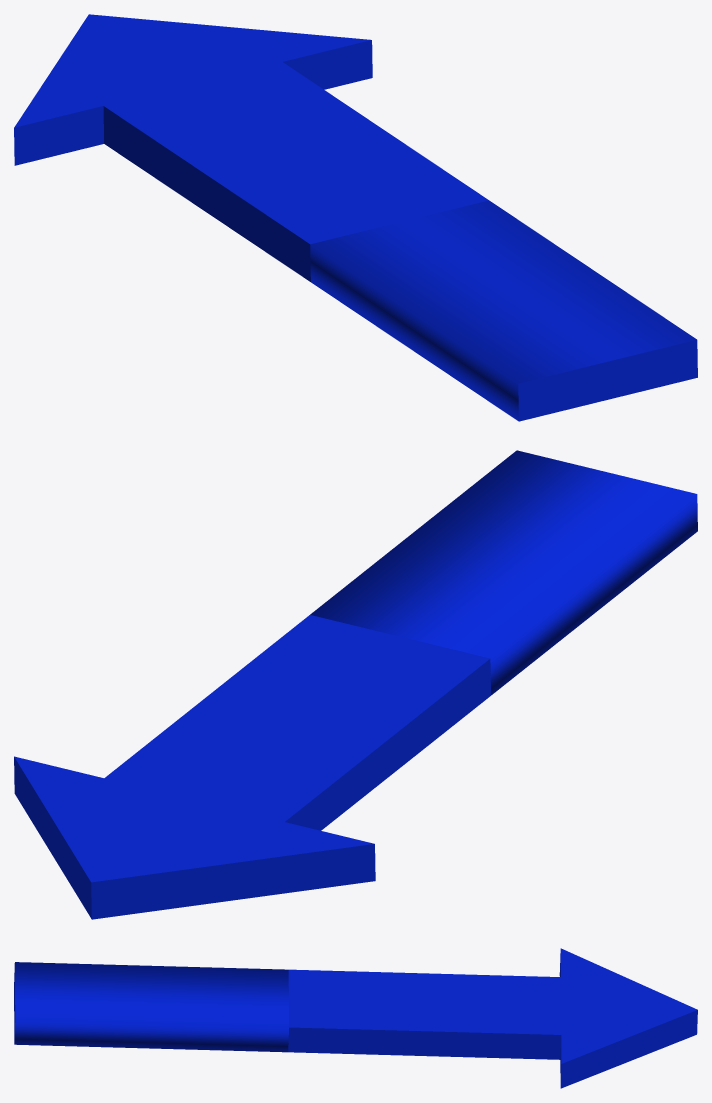
Rendered from arrow.gltf.
3 views of the same model, one above another, from view 1: azimuth 30°, elevation 25°; view 2: azimuth 150°, elevation 25°; view 3: azimuth 270°, elevation 25° (orthographic). The views are drawn at different scales.
Parts seen in each view (by area): view 1: Merged_Meshes; view 2: Merged_Meshes; view 3: Merged_Meshes.
Part boxes in pixels (<box>): Merged_Meshes: <box>14,14,697,421</box>; Merged_Meshes: <box>14,450,697,919</box>; Merged_Meshes: <box>14,948,697,1088</box>.
Size of the model in its own units: 3 by 0.5381 by 7.49.
